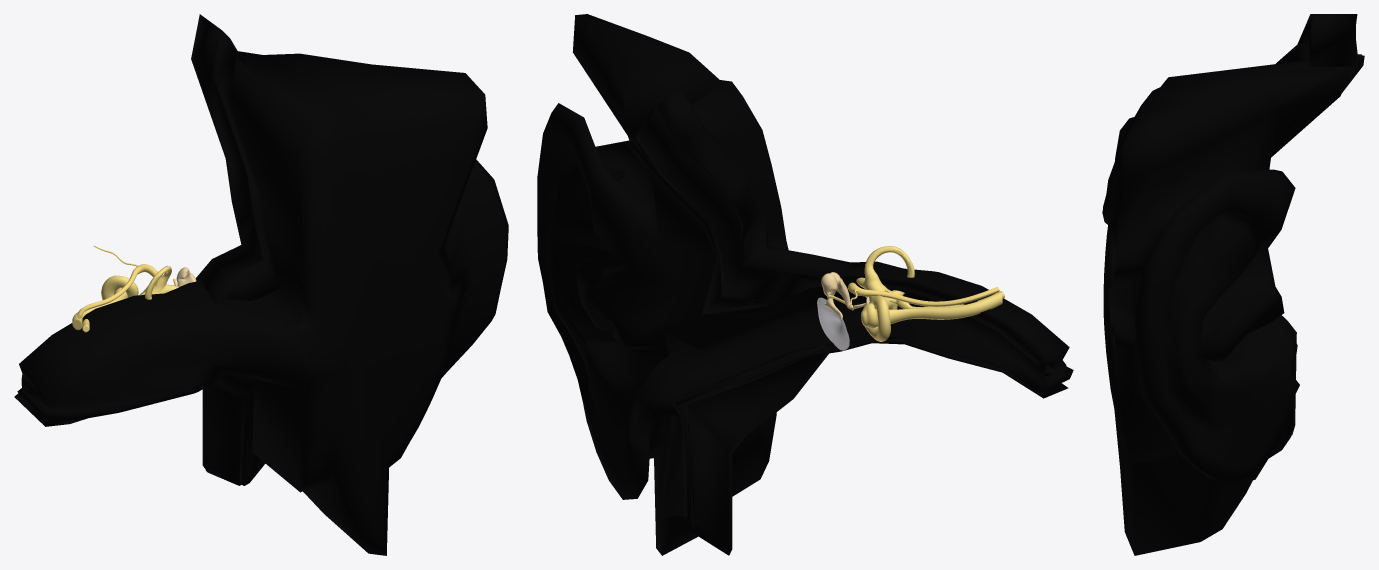
The model's file is Ear_all_collision.fbx.
The picture shows the model from 3 angles, left to right: view 1: azimuth 30°, elevation 25°; view 2: azimuth 150°, elevation 25°; view 3: azimuth 270°, elevation 25°; orthographic projection. The views are drawn at different scales.
Parts seen in each view (by area): view 1: collision; view 2: collision; view 3: collision.
Part boxes in pixels (x1,y1,x2,y2): collision: (14,14,508,555); collision: (537,14,1073,555); collision: (1102,14,1364,555).
Size of the model in its own units: 29.73 by 28.72 by 13.62.
